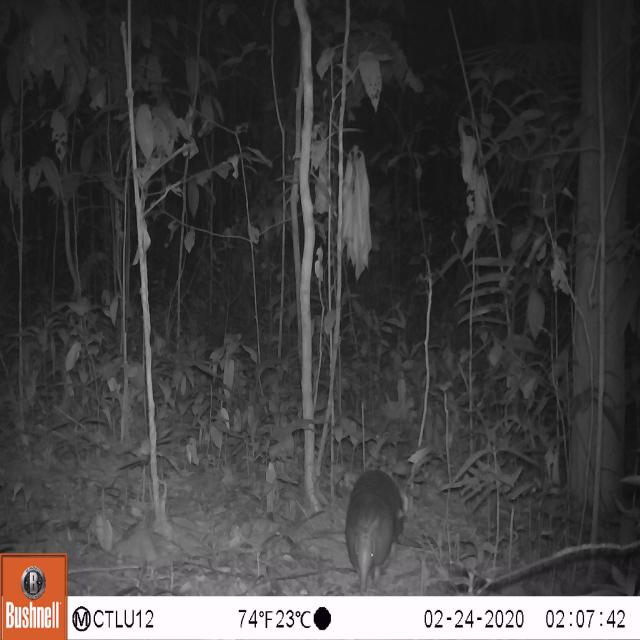Armadillo: (332, 462, 414, 595)
